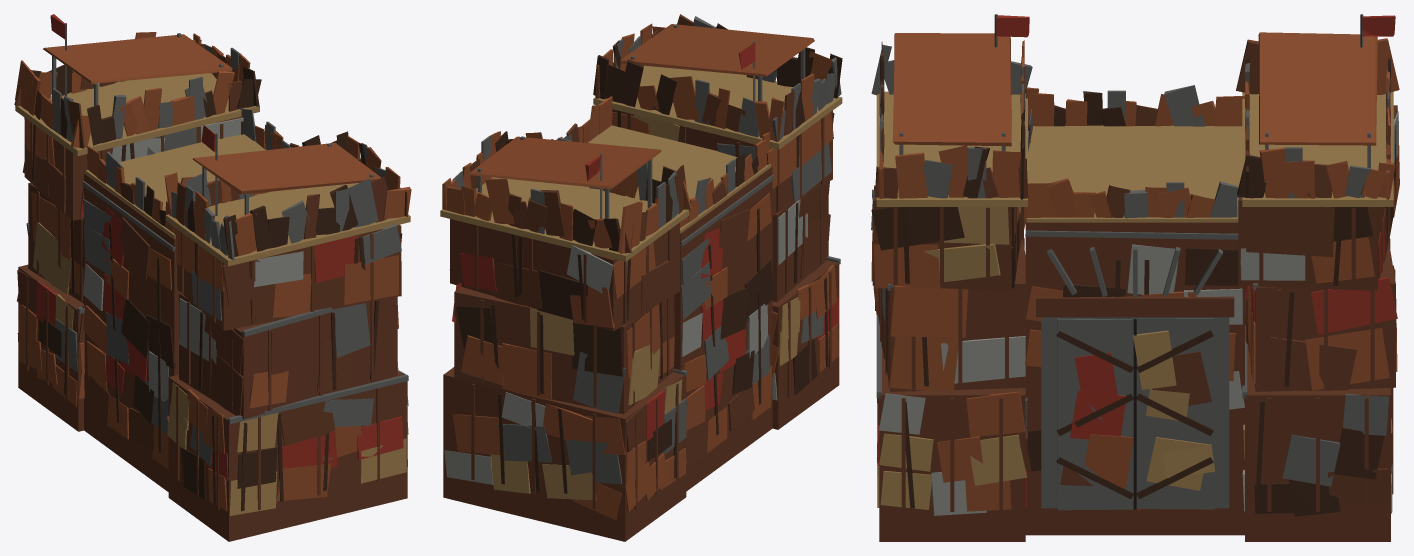
File: fort_scrap_gate.glb
3 views of the same model, side by side, from view 1: azimuth 30°, elevation 25°; view 2: azimuth 150°, elevation 25°; view 3: azimuth 270°, elevation 25° (orthographic). The views are drawn at different scales.
Visible parts, largest first — view 1: fort_scrap_gate; view 2: fort_scrap_gate; view 3: fort_scrap_gate.
Part boxes in pixels (left/top/right/bottom): fort_scrap_gate: left=14, top=14, right=411, bottom=541; fort_scrap_gate: left=440, top=14, right=842, bottom=541; fort_scrap_gate: left=871, top=14, right=1399, bottom=541.
Size of the model in its own units: 10.2 by 18.7 by 20.25.
